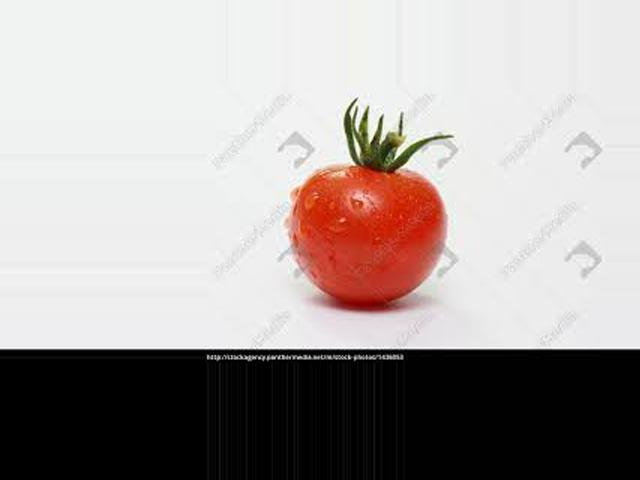tomato: (290, 168, 447, 304)
